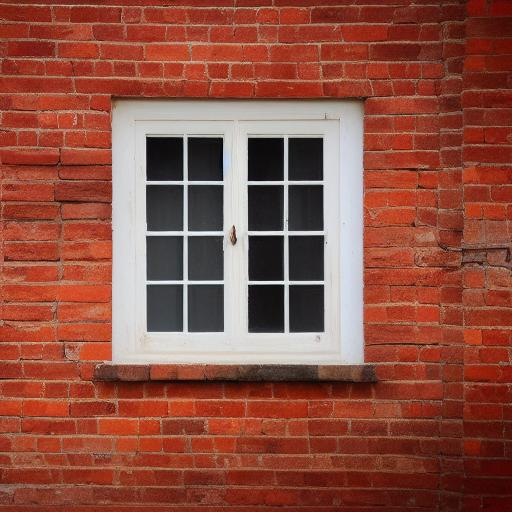Window: (97, 89, 383, 384)
